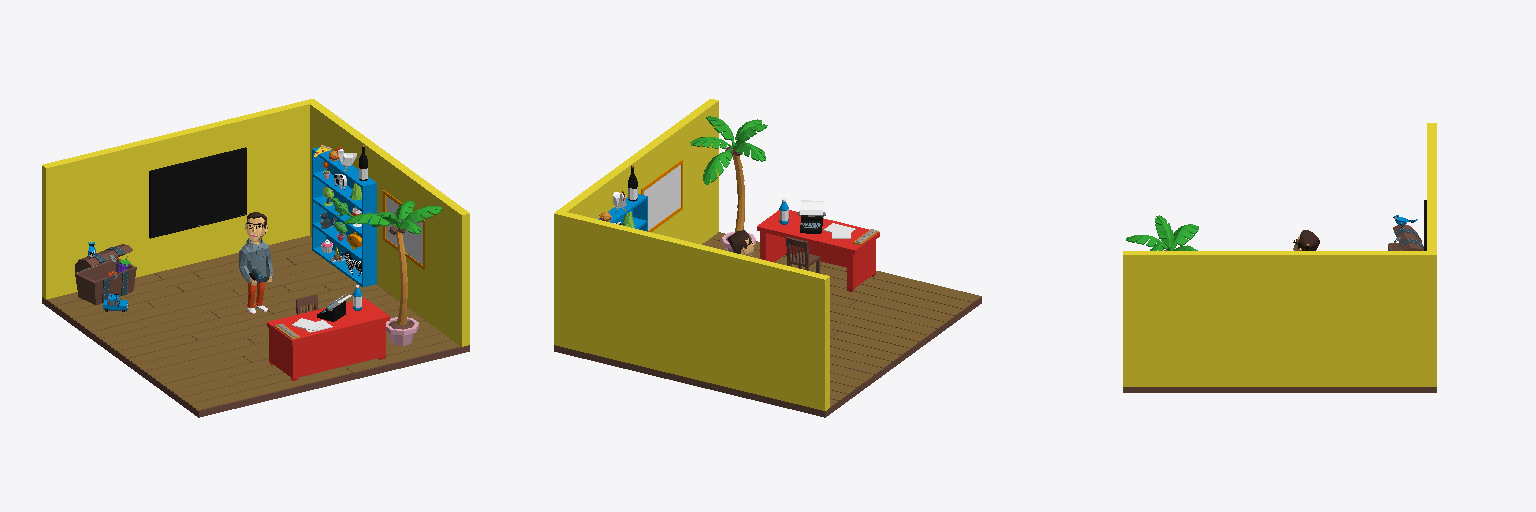
Rendered from Isometric_Room_04.obj.
The picture shows the model from 3 angles: view 1: azimuth 30°, elevation 25°; view 2: azimuth 150°, elevation 25°; view 3: azimuth 270°, elevation 25°; orthographic projection.
Visible parts, largest first — view 1: Plane, Cube.024, Cube_Cube.001, Cube.001_Cube.002, Cube.002_Cube.003, palm_tree_01, Cube.004_Cube, Plane.002_Plane.009, Cube.008_Cube.002, flower_01_Cube.000, Cube.005; view 2: Plane, Cube.024, Cube.001_Cube.002, palm_tree_01, Plane.002_Plane.009, Cube.002_Cube.003, Cube.003_Cube.006, Plane.004_Plane.010; view 3: Plane, palm_tree_01, Cube.005.
Boxes of the visible parts, x1,y1,x2,y2 form: Plane: [42, 99, 469, 417]; Cube.024: [47, 236, 460, 410]; Cube_Cube.001: [149, 147, 246, 238]; Cube.001_Cube.002: [267, 298, 389, 380]; Cube.002_Cube.003: [312, 146, 376, 286]; palm_tree_01: [345, 201, 442, 324]; Cube.004_Cube: [75, 258, 136, 304]; Plane.002_Plane.009: [383, 190, 424, 269]; Cube.008_Cube.002: [239, 238, 272, 282]; flower_01_Cube.000: [386, 317, 418, 345]; Cube.005: [75, 244, 132, 272]; Plane: [554, 99, 981, 417]; Cube.024: [702, 232, 981, 406]; Cube.001_Cube.002: [757, 210, 879, 291]; palm_tree_01: [690, 116, 767, 232]; Plane.002_Plane.009: [641, 159, 682, 231]; Cube.002_Cube.003: [598, 194, 647, 231]; Cube.003_Cube.006: [798, 200, 825, 233]; Plane.004_Plane.010: [786, 237, 819, 273]; Plane: [1123, 123, 1436, 392]; palm_tree_01: [1126, 215, 1198, 250]; Cube.005: [1393, 225, 1423, 250].
Size of the model in its own units: 15.49 by 7.74 by 15.49.